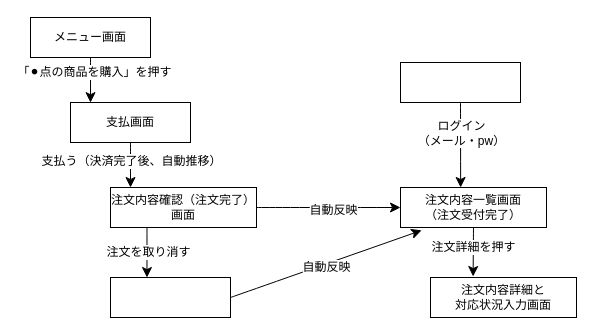
This 594x335 diagram has some shape labels left out. Each missing label, with the centre of its shape:
"注文取消画面" goes at point 170,297.
"管理者ページ （ホーム）" goes at point 460,82.
